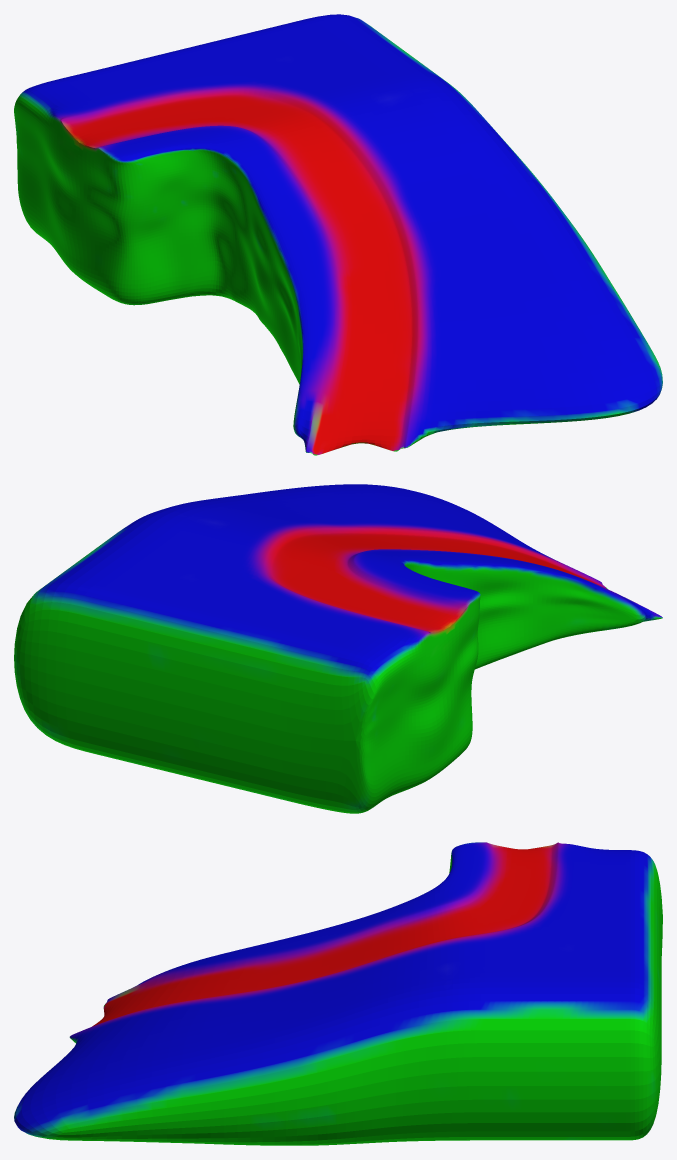
File: level_one_platform_3.fbx
3 views of the same model, one above another, from view 1: azimuth 30°, elevation 25°; view 2: azimuth 150°, elevation 25°; view 3: azimuth 270°, elevation 25° (orthographic). The views are drawn at different scales.
Parts seen in each view (by area): view 1: Cube.003; view 2: Cube.003; view 3: Cube.003.
Part boxes in pixels (x1=…): Cube.003: x1=14, y1=14, x2=662, y2=455; Cube.003: x1=14, y1=484, x2=662, y2=813; Cube.003: x1=14, y1=842, x2=662, y2=1145.
Size of the model in its own units: 1181 by 1890 by 506.
